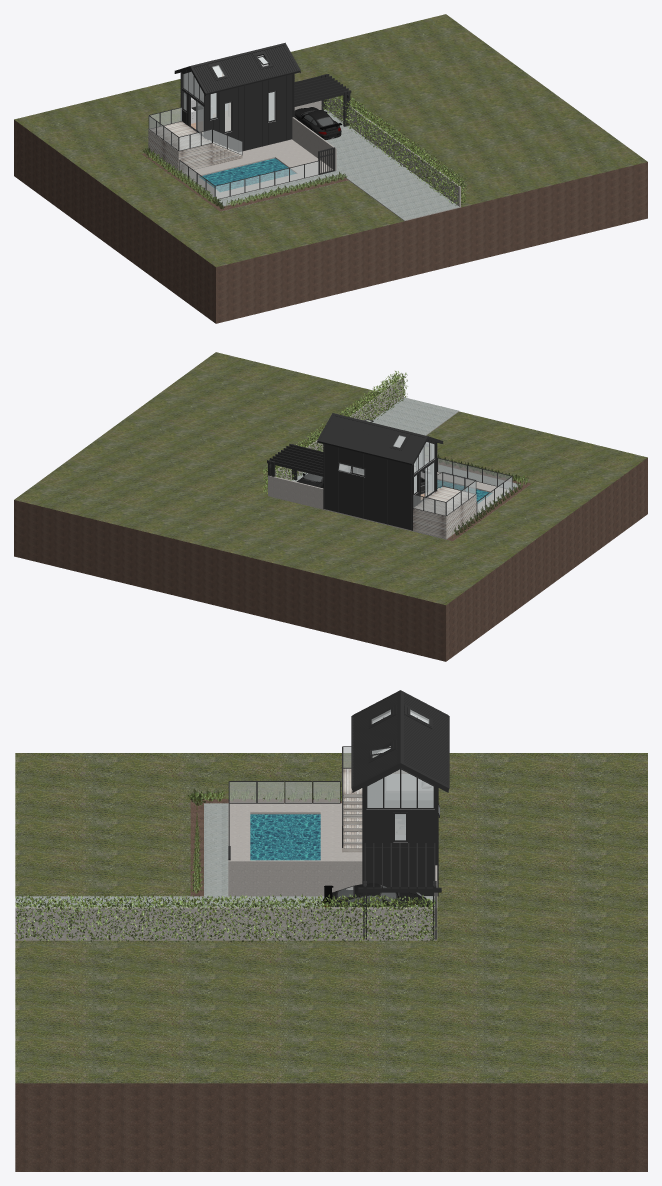
File: villa-small.glb
3 renders of one model, top to bottom at view 1: azimuth 30°, elevation 25°; view 2: azimuth 150°, elevation 25°; view 3: azimuth 270°, elevation 25°, orthographic. The views are drawn at different scales.
Visible parts, largest first — view 1: Material82, Material17, Material32, Material3, Material85, Material88, Material24, Material33, Material76, Material80, Material90, Material8; view 2: Material82, Material17, Material32, Material24, Material88, Material3, Material33, Material85, Material76; view 3: Material82, Material17, Material3, Material88, Material32, Material85, Material24, Material33, Material80, Material76, Material90, Material83.
Part boxes in pixels (box(x1,y1,x2,y2)): Material82: box(14, 14, 647, 267); Material17: box(14, 120, 647, 323); Material32: box(174, 42, 334, 152); Material3: box(183, 97, 460, 206); Material85: box(217, 109, 459, 220); Material88: box(142, 95, 466, 209); Material24: box(149, 57, 332, 198); Material33: box(148, 70, 351, 199); Material76: box(148, 121, 242, 172); Material80: box(200, 158, 295, 191); Material90: box(294, 107, 341, 139); Material8: box(182, 55, 275, 133); Material82: box(14, 352, 647, 605); Material17: box(14, 458, 647, 661); Material32: box(302, 413, 443, 530); Material24: box(304, 420, 512, 515); Material88: box(263, 370, 528, 538); Material3: box(268, 378, 512, 539); Material33: box(267, 440, 512, 516); Material85: box(291, 397, 520, 489); Material76: box(413, 486, 476, 538); Material82: box(15, 753, 647, 1083); Material17: box(15, 799, 647, 1171); Material3: box(15, 803, 437, 939); Material88: box(14, 788, 436, 942); Material32: box(334, 690, 448, 906); Material85: box(15, 803, 434, 907); Material24: box(229, 709, 439, 906); Material33: box(228, 716, 449, 939); Material80: box(250, 814, 320, 860); Material76: box(342, 768, 362, 852); Material90: box(322, 883, 430, 907); Material83: box(15, 939, 437, 940).
Size of what is drawn, in the model's own units: 35.52 by 11.33 by 28.82.
36 materials, 15 textured.
